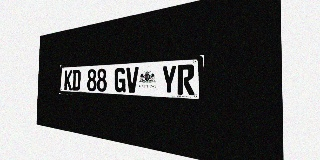8: (96, 68, 107, 92), (87, 69, 97, 91)
D: (72, 69, 81, 91)
G: (114, 67, 126, 92)
K: (64, 70, 72, 90)
R: (177, 64, 195, 95)
V: (126, 67, 139, 93)
Y: (161, 65, 177, 94)
